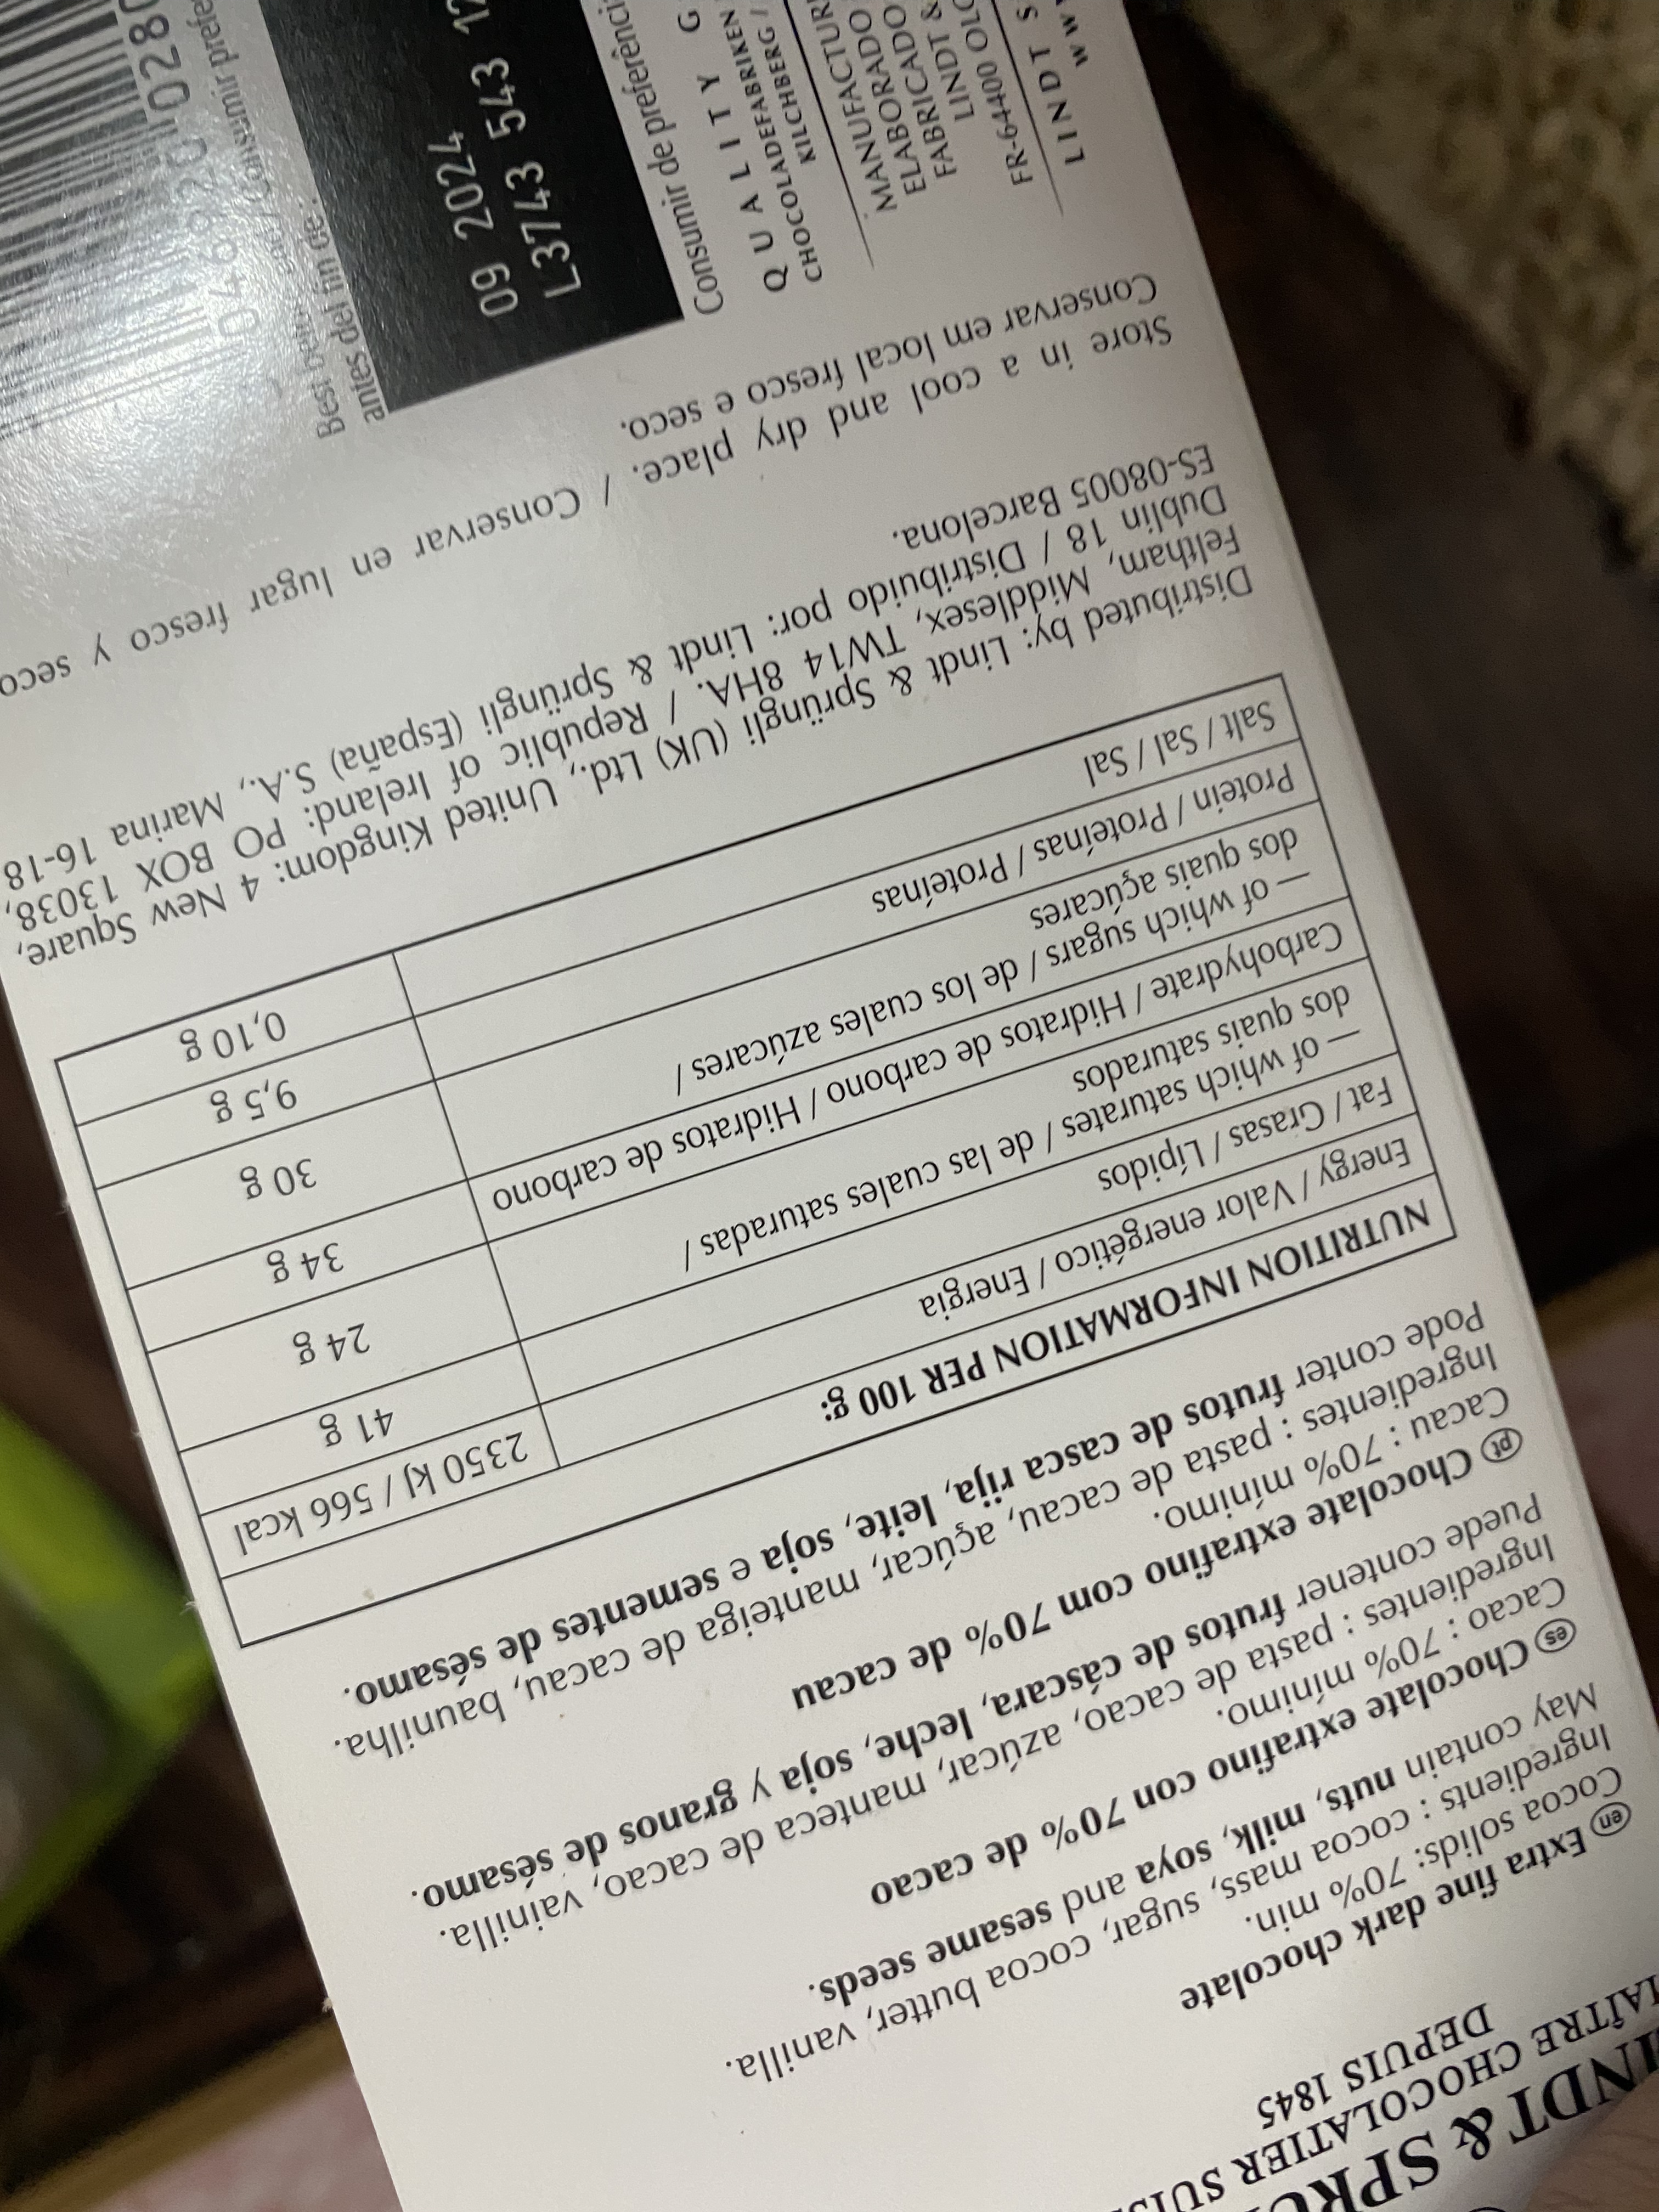table: (52, 662, 1457, 1653)
